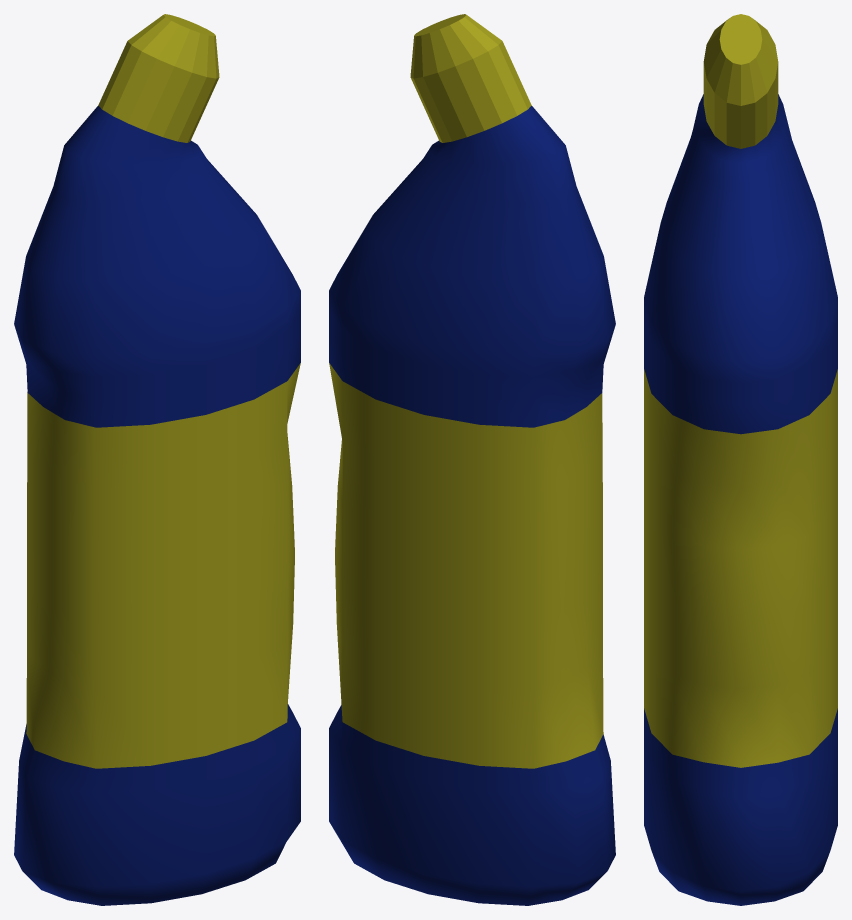
Rendered from Cleaning_Bottle_2.fbx.
3 views of the same model, side by side, from view 1: azimuth 30°, elevation 25°; view 2: azimuth 150°, elevation 25°; view 3: azimuth 270°, elevation 25° (orthographic).
Visible parts, largest first — view 1: Cylinder.037; view 2: Cylinder.037; view 3: Cylinder.037.
Part boxes in pixels (left/top/right/bottom): Cylinder.037: left=14, top=14, right=300, bottom=905; Cylinder.037: left=329, top=14, right=615, bottom=905; Cylinder.037: left=644, top=14, right=837, bottom=905.
Bounding box in the file's own units: 9.58 × 28.55 × 5.98.
